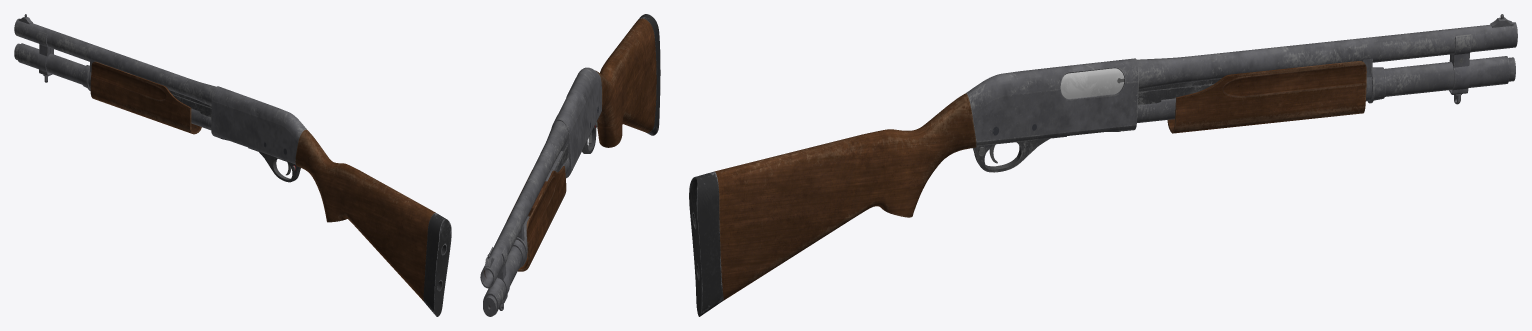
File: shotgun.glb
3 renders of one model, left to right at view 1: azimuth 30°, elevation 25°; view 2: azimuth 150°, elevation 25°; view 3: azimuth 270°, elevation 25°, orthographic. The views are drawn at different scales.
Visible parts, largest first — view 1: StockWood_Lp__0, Barrel_Lp, Body_Lp__0, Grip_Lp__0, StockPlastic_Lp__0, BarrelHolder_Lp, Triggerholder_Lp__0, BarrelPump_Lp__0; view 2: StockWood_Lp__0, Barrel_Lp, Body_Lp__0, Grip_Lp__0, StockPlastic_Lp__0, BarrelHolder_Lp, Triggerholder_Lp__0, BarrelPump_Lp__0; view 3: StockWood_Lp__0, Barrel_Lp, Body_Lp__0, Grip_Lp__0, StockPlastic_Lp__0, EjectorTop_Lp, BarrelHolder_Lp, BarrelPump_Lp__0, Triggerholder_Lp__0.
Part boxes in pixels (left/top/right/bottom): StockWood_Lp__0: left=295, top=129, right=435, bottom=301; Barrel_Lp: left=14, top=14, right=216, bottom=130; Body_Lp__0: left=211, top=86, right=306, bottom=164; Grip_Lp__0: left=90, top=61, right=201, bottom=134; StockPlastic_Lp__0: left=423, top=213, right=451, bottom=316; BarrelHolder_Lp: left=37, top=31, right=53, bottom=82; Triggerholder_Lp__0: left=248, top=147, right=300, bottom=182; BarrelPump_Lp__0: left=169, top=90, right=211, bottom=117; StockWood_Lp__0: left=595, top=18, right=656, bottom=147; Barrel_Lp: left=480, top=121, right=569, bottom=316; Body_Lp__0: left=551, top=67, right=601, bottom=178; Grip_Lp__0: left=518, top=166, right=566, bottom=271; StockPlastic_Lp__0: left=638, top=14, right=660, bottom=135; BarrelHolder_Lp: left=489, top=247, right=509, bottom=310; Triggerholder_Lp__0: left=582, top=126, right=596, bottom=153; BarrelPump_Lp__0: left=554, top=144, right=568, bottom=172; StockWood_Lp__0: left=714, top=93, right=976, bottom=300; Barrel_Lp: left=1137, top=14, right=1517, bottom=122; Body_Lp__0: left=966, top=58, right=1138, bottom=145; Grip_Lp__0: left=1167, top=61, right=1366, bottom=133; StockPlastic_Lp__0: left=689, top=171, right=723, bottom=316; EjectorTop_Lp: left=1060, top=68, right=1124, bottom=98; BarrelHolder_Lp: left=1449, top=34, right=1471, bottom=104; BarrelPump_Lp__0: left=1138, top=79, right=1220, bottom=104; Triggerholder_Lp__0: left=972, top=136, right=1066, bottom=172.
Size of the model in its own units: 0.7287 by 0.6076 by 2.2.
Materials: 1 (1 with a texture image).
